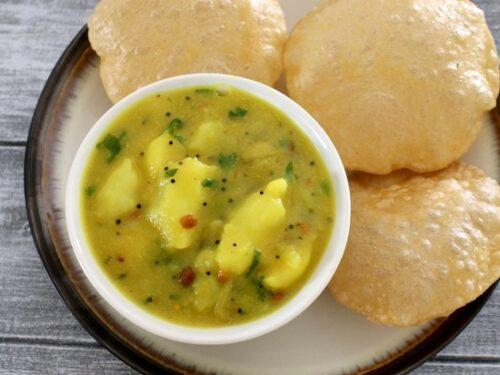puri: (331, 0, 500, 347)
